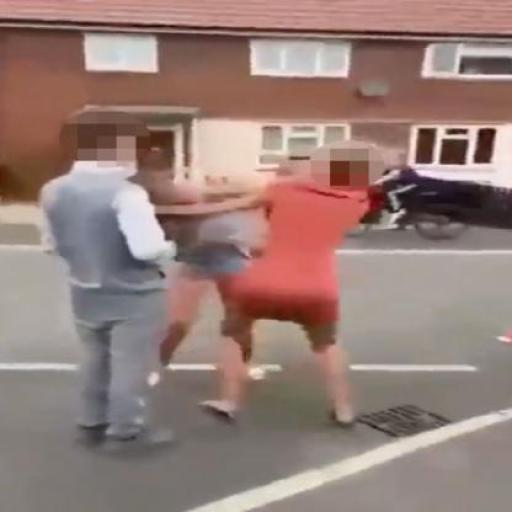Fighting: (40, 96, 366, 444)
